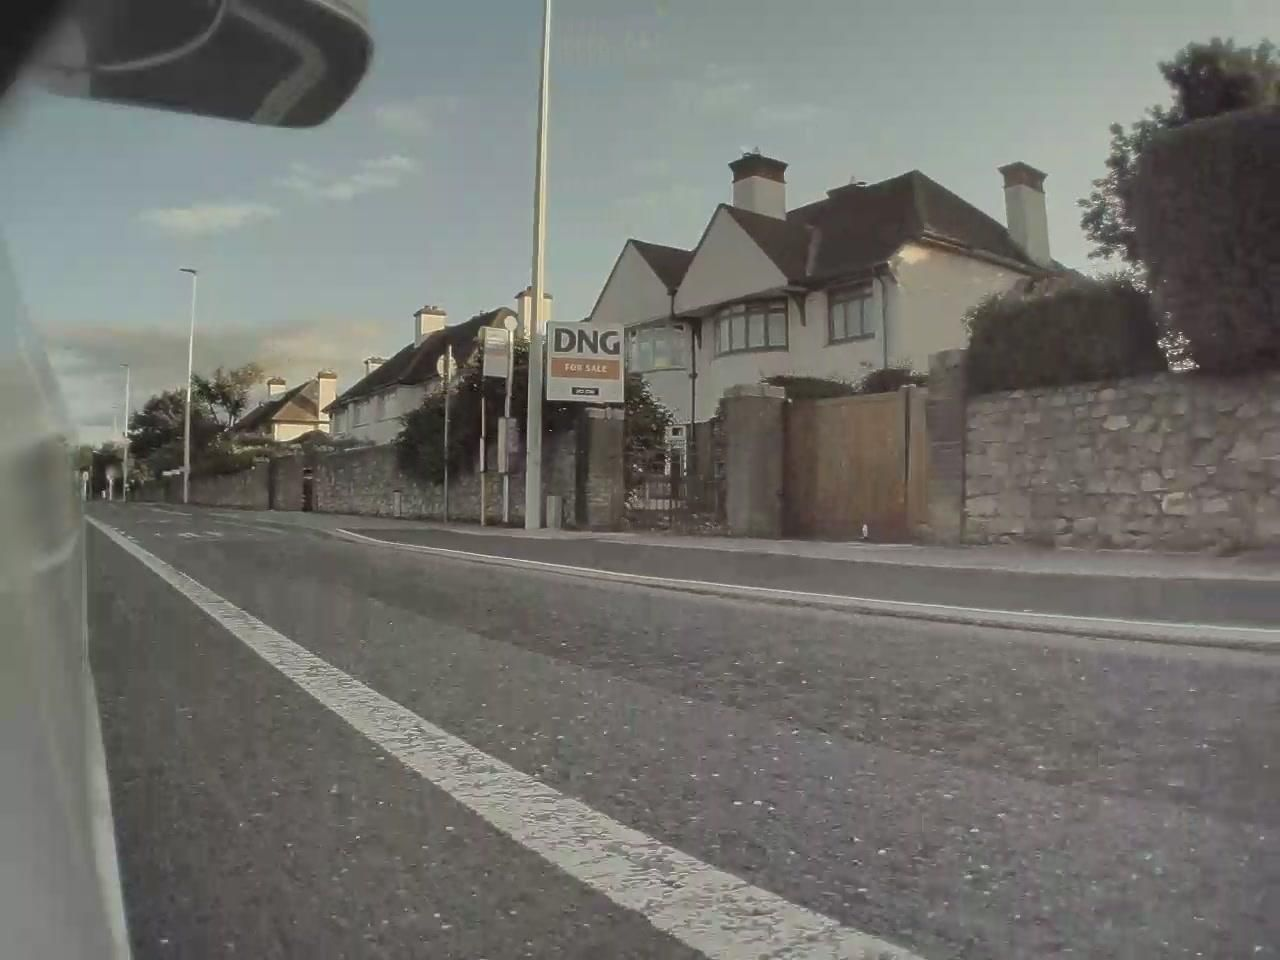property sign: (533, 303, 630, 411)
